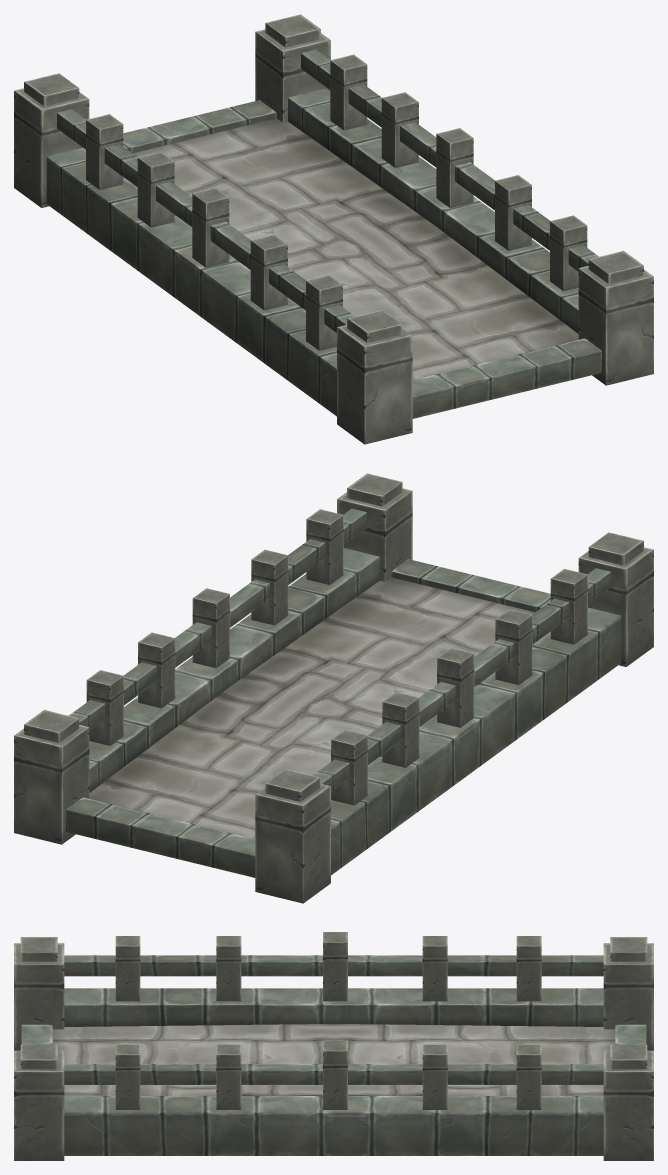
Rendered from bridge_04b_02.fbx.
3 views of the same model, one above another, from view 1: azimuth 30°, elevation 25°; view 2: azimuth 150°, elevation 25°; view 3: azimuth 270°, elevation 25° (orthographic). The views are drawn at different scales.
Visible parts, largest first — view 1: bridge_04b_02; view 2: bridge_04b_02; view 3: bridge_04b_02.
Boxes of the visible parts, box(x1,y1,x2,y2) form: bridge_04b_02: box(14, 14, 653, 444); bridge_04b_02: box(14, 473, 653, 903); bridge_04b_02: box(14, 932, 653, 1160).
Size of the model in its own units: 2.88 by 1.09 by 6.04.
